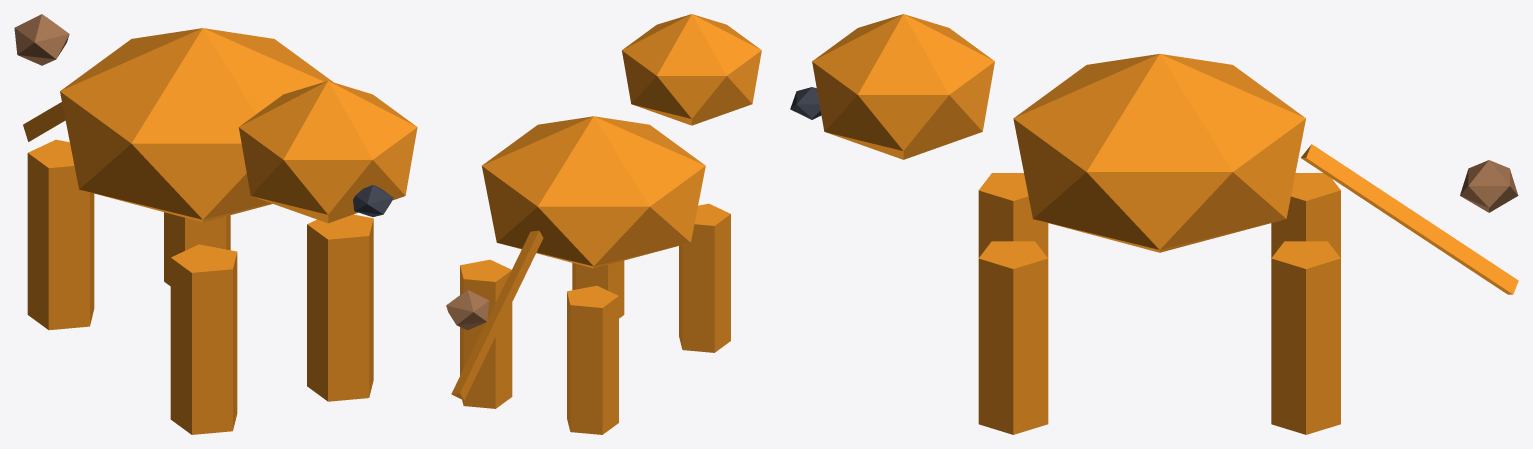
Rendered from animal_lioness.glb.
The picture shows the model from 3 angles, left to right: view 1: azimuth 30°, elevation 25°; view 2: azimuth 150°, elevation 25°; view 3: azimuth 270°, elevation 25°; orthographic projection. The views are drawn at different scales.
Visible parts, largest first — view 1: animal_lioness; view 2: animal_lioness; view 3: animal_lioness.
Part boxes in pixels (box(x1,y1,x2,y2)): animal_lioness: box(14, 14, 417, 434); animal_lioness: box(446, 14, 761, 434); animal_lioness: box(790, 14, 1518, 434).
Bounding box in the file's own units: 0.08 × 0.112 × 0.1991.
